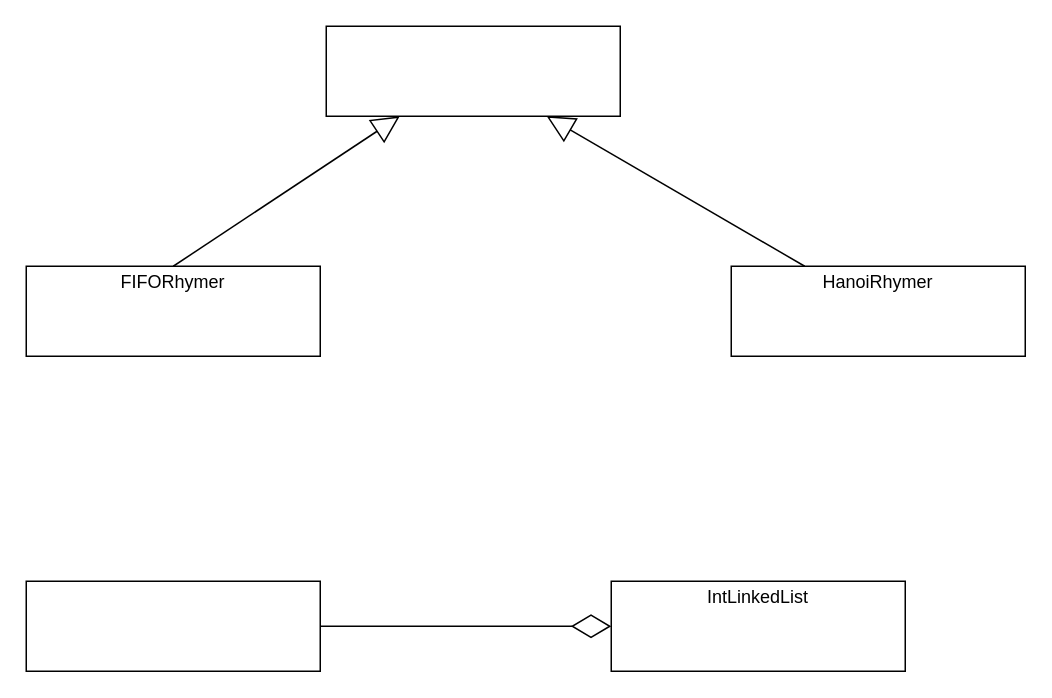
Image size: 1052x698. Some labels were removed from this diagram. Here are the shapes that lost their labels. From the top down, the box of each, then its label:
(325, 25, 620, 116): DefaultCountingOutRhymer
(25, 580, 320, 671): Node
